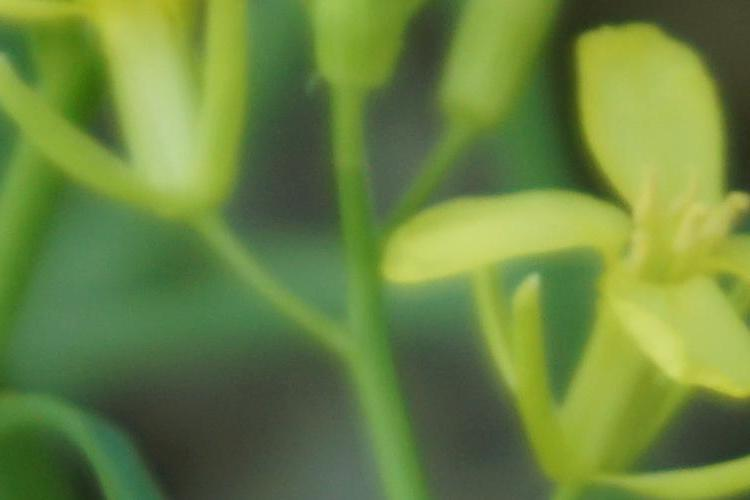bud: (296, 4, 415, 113)
